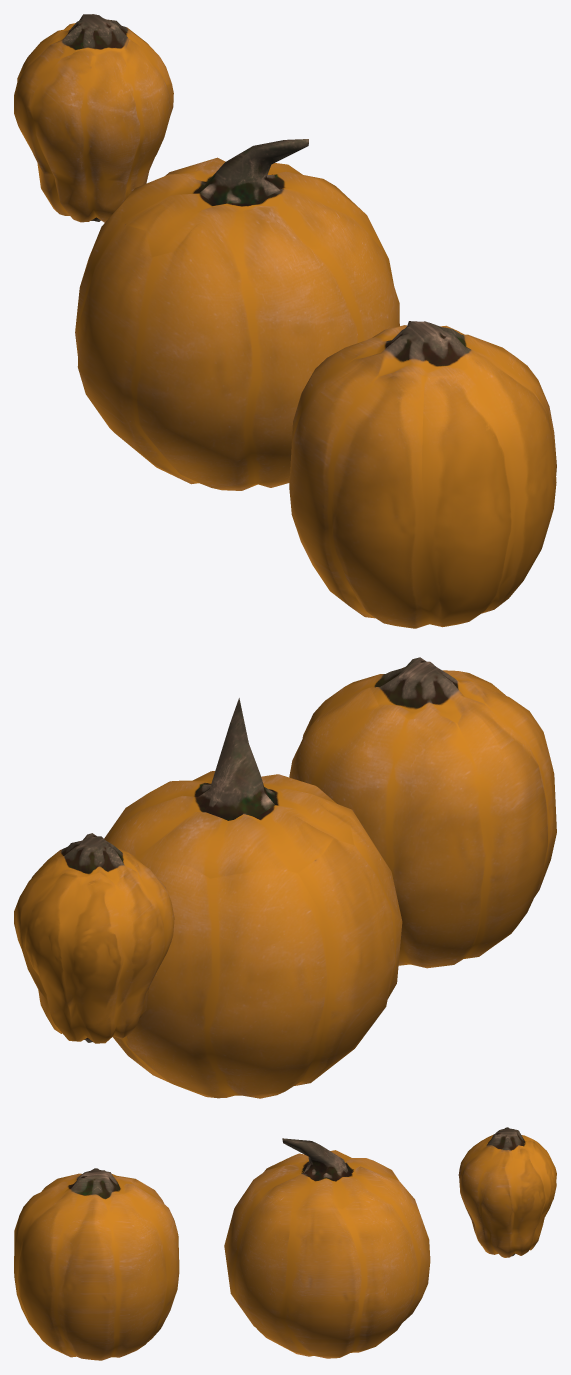
Rendered from Pumpkin.fbx.
The picture shows the model from 3 angles, top to bottom: view 1: azimuth 30°, elevation 25°; view 2: azimuth 150°, elevation 25°; view 3: azimuth 270°, elevation 25°; orthographic projection. The views are drawn at different scales.
Parts seen in each view (by area): view 1: PM3D_PolySphere.001, PM3D_PolySphere1.001, PM3D_PolySphere2.001; view 2: PM3D_PolySphere.001, PM3D_PolySphere1.001, PM3D_PolySphere2.001; view 3: PM3D_PolySphere.001, PM3D_PolySphere1.001, PM3D_PolySphere2.001.
Boxes of the visible parts, bbox=[...] form: PM3D_PolySphere.001: bbox=[75, 139, 399, 490]; PM3D_PolySphere1.001: bbox=[289, 321, 556, 628]; PM3D_PolySphere2.001: bbox=[14, 14, 173, 222]; PM3D_PolySphere.001: bbox=[104, 698, 402, 1098]; PM3D_PolySphere1.001: bbox=[289, 657, 556, 968]; PM3D_PolySphere2.001: bbox=[14, 833, 174, 1043]; PM3D_PolySphere.001: bbox=[224, 1138, 430, 1358]; PM3D_PolySphere1.001: bbox=[14, 1168, 179, 1360]; PM3D_PolySphere2.001: bbox=[458, 1127, 556, 1257].
Size of the model in its own units: 109 by 127 by 288.
